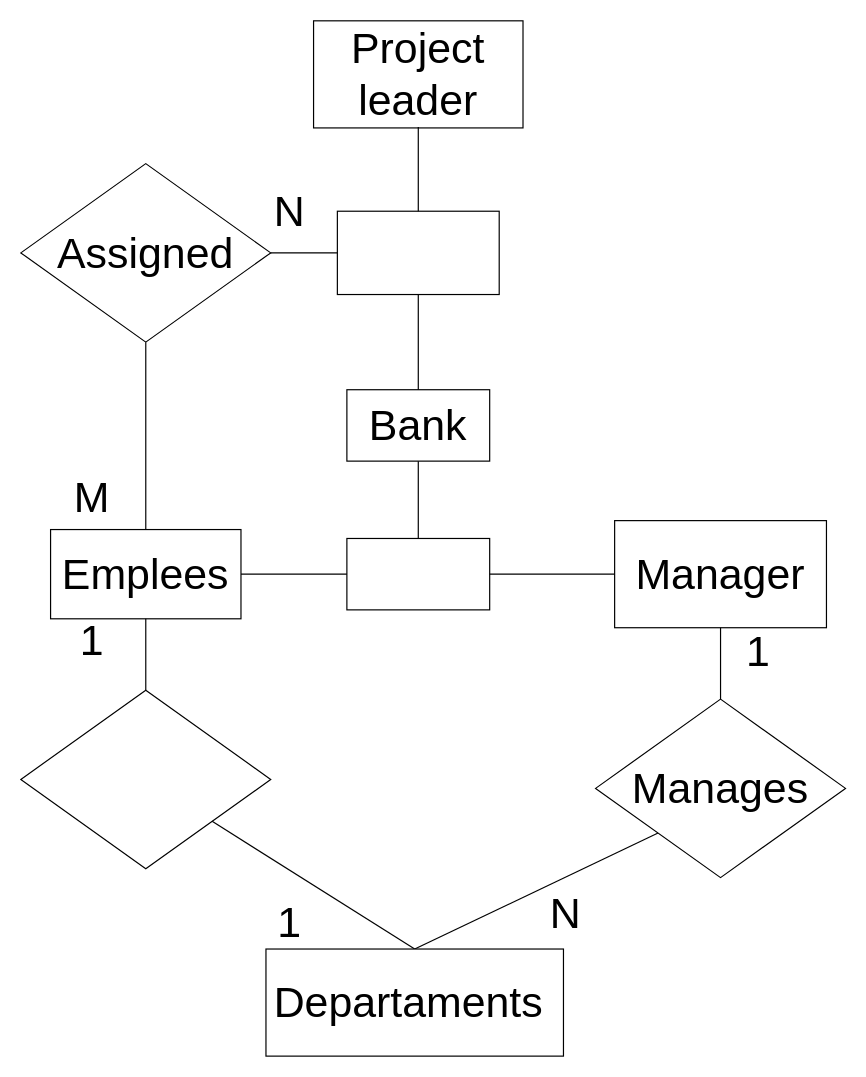
Some shapes in this 866 by 1077 pixel diagram are drawn without their labels. The shapes that lost their labels are listed below. From the top down, each one's box as (x1, y1, x2, y2) in pixels, then its label:
(336, 210, 499, 295): Projects
(346, 537, 490, 610): IT Div.
(20, 689, 271, 869): Belongs
